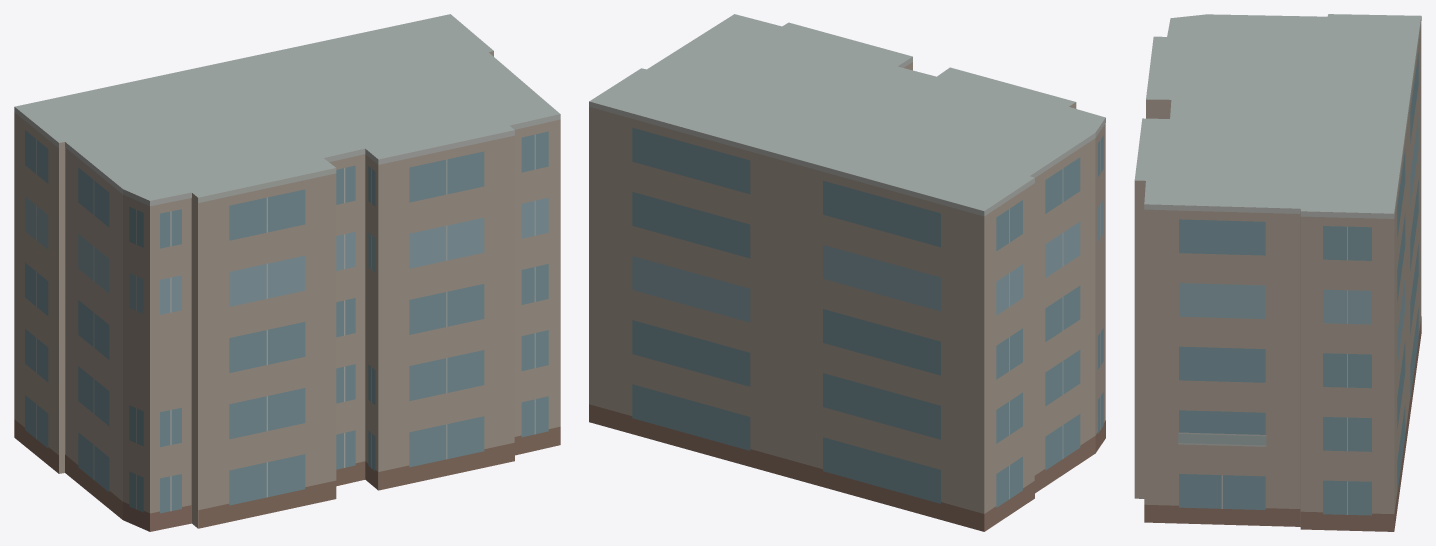
The model's file is survey-upis-32819223.glb.
The picture shows the model from 3 angles, left to right: view 1: azimuth 30°, elevation 25°; view 2: azimuth 150°, elevation 25°; view 3: azimuth 270°, elevation 25°; orthographic projection. The views are drawn at different scales.
Parts seen in each view (by area): view 1: survey-upis-32819223.tmp; view 2: survey-upis-32819223.tmp; view 3: survey-upis-32819223.tmp.
Boxes of the visible parts, x1=… form: survey-upis-32819223.tmp: x1=14, y1=14, x2=560, y2=531; survey-upis-32819223.tmp: x1=589, y1=14, x2=1105, y2=531; survey-upis-32819223.tmp: x1=1134, y1=14, x2=1421, y2=531.
Bounding box in the file's own units: 20.07 × 14.9 × 12.18.
